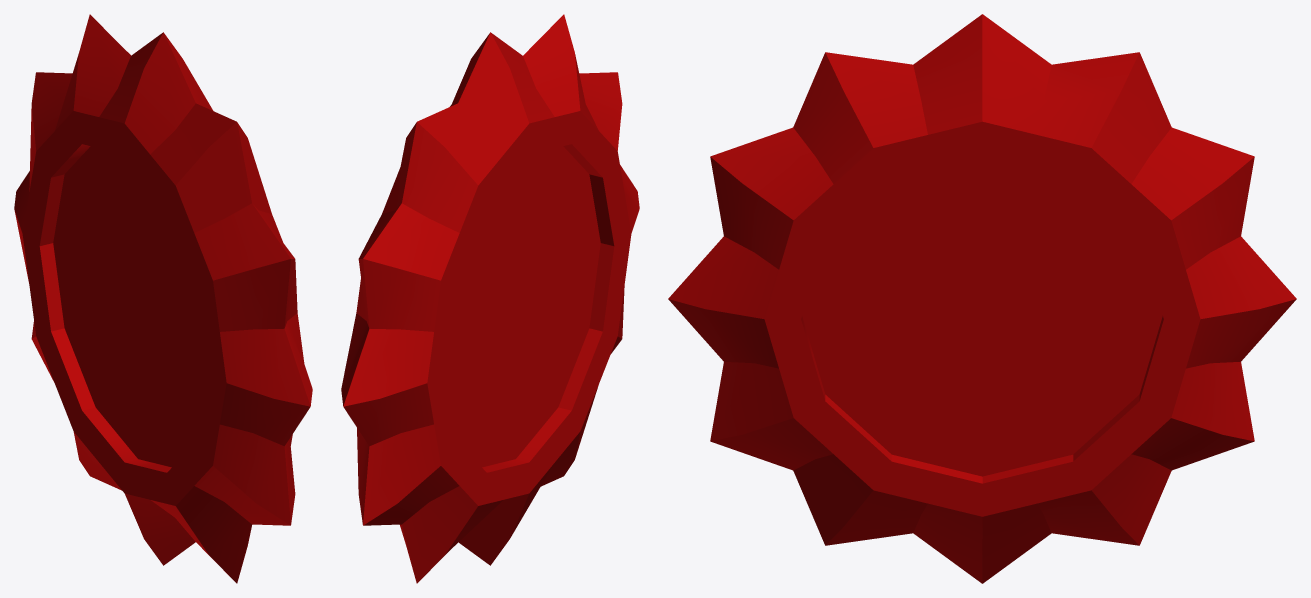
Rendered from Saw.fbx.
3 views of the same model, side by side, from view 1: azimuth 30°, elevation 25°; view 2: azimuth 150°, elevation 25°; view 3: azimuth 270°, elevation 25° (orthographic). The views are drawn at different scales.
Parts seen in each view (by area): view 1: Saw; view 2: Saw; view 3: Saw.
Part boxes in pixels (left/top/right/bottom): Saw: left=14, top=14, right=312, bottom=583; Saw: left=341, top=14, right=639, bottom=583; Saw: left=668, top=14, right=1296, bottom=583.
Size of the model in its own units: 43.59 by 286 by 286.
